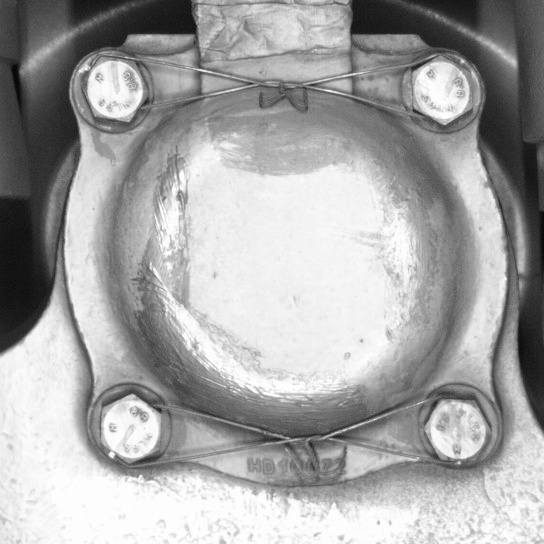IronWire: (65, 42, 485, 134), (91, 384, 498, 476)
Screw: (68, 42, 158, 138), (411, 385, 497, 474), (402, 48, 484, 134), (90, 384, 169, 470)
